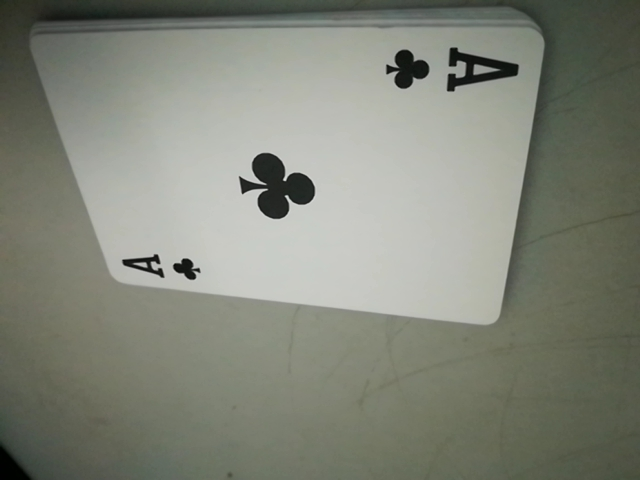mh a: (382, 36, 517, 103), (113, 245, 211, 287)
